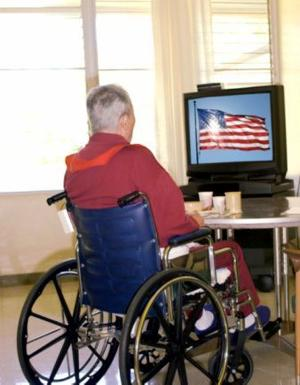person: (64, 85, 271, 339)
